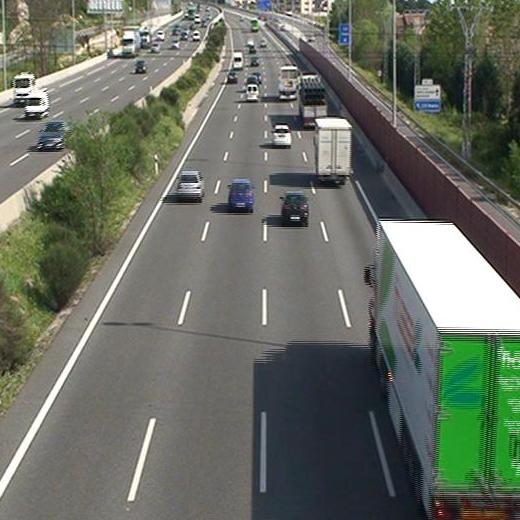car: (228, 179, 255, 211), (176, 171, 205, 198), (282, 194, 308, 224), (271, 124, 292, 147), (228, 71, 238, 82), (249, 56, 259, 65), (248, 75, 257, 84)
small-truck: (315, 118, 352, 185), (277, 66, 300, 98)
truck: (372, 220, 520, 519), (297, 75, 327, 126)
van: (232, 50, 244, 69), (246, 85, 259, 102)
